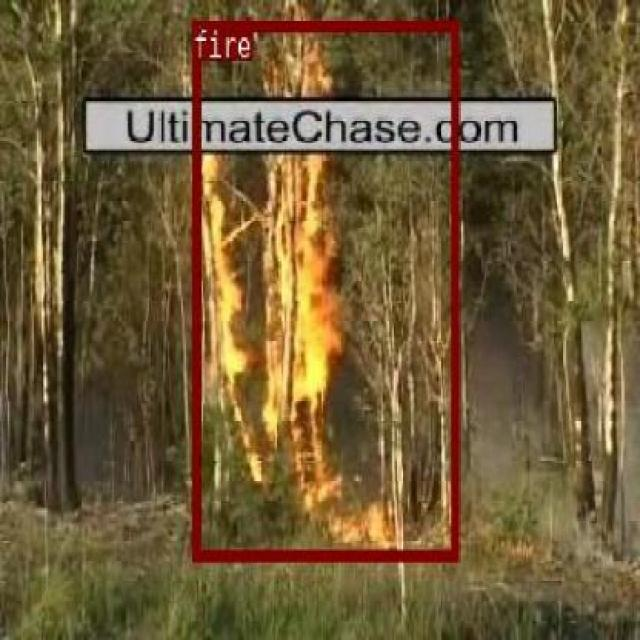Fire: (190, 19, 458, 558)
